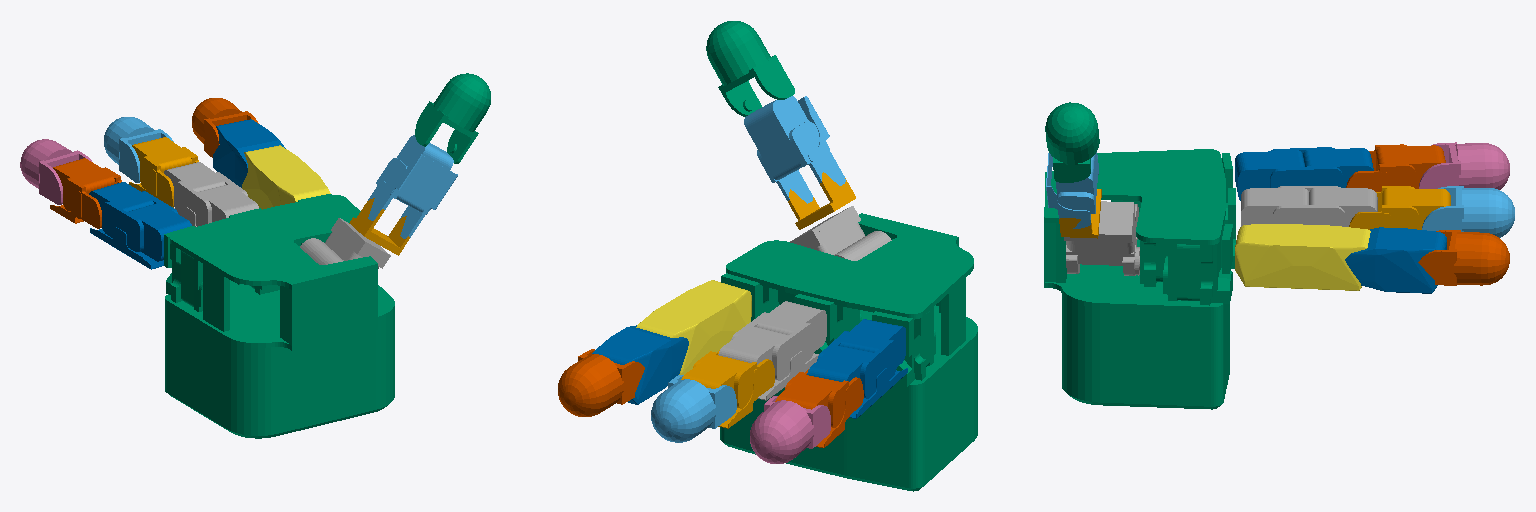
The robot description file, URDF, robot "allegro_hand":
<?xml version="1.0"?>
<robot name="allegro_hand">
  <joint name="allegro_mount_joint" type="fixed">
    <origin xyz="0.01 -0.01 -0.02" rpy="0 0 1.57"/>
    <parent link="allegro_mount"/>
    <child link="palm_link"/>
  </joint>
  <joint name="index_joint_0" type="revolute">
    <origin xyz="0.0514302 -0.03632 -0.0113 " rpy="-3.1415927 0.0000462 -0.0873565"/>
    <parent link="palm_link"/>
    <child link="index_link_0"/>
    <axis xyz="1. 0. 0."/>
    <limit lower="-0.5584889" upper="0.5584889" effort="21." velocity="6.283"/>
  </joint>
  <joint name="index_joint_1" type="revolute">
    <origin xyz="0. 0. 0." rpy="-1.5707963 0.0001391 1.5708427"/>
    <parent link="index_link_0"/>
    <child link="index_link_1"/>
    <axis xyz="1. 0. 0."/>
    <limit lower="-0.2792444" upper="1.727825" effort="21." velocity="6.283"/>
  </joint>
  <joint name="index_joint_2" type="revolute">
    <origin xyz="0. 0. -0.054" rpy="0. 0. 0."/>
    <parent link="index_link_1"/>
    <child link="index_link_2"/>
    <axis xyz="1. 0. 0."/>
    <limit lower="-0.2792444" upper="1.727825" effort="21." velocity="6.283"/>
  </joint>
  <joint name="index_joint_3" type="revolute">
    <origin xyz="0. 0. -0.0384" rpy="0. 0. 0."/>
    <parent link="index_link_2"/>
    <child link="index_link_3"/>
    <axis xyz="1. 0. 0."/>
    <limit lower="-0.2792444" upper="1.727825" effort="21." velocity="6.283"/>
  </joint>
  <joint name="middle_joint_0" type="revolute">
    <origin xyz="0.0537375 0.0087771 -0.0113 " rpy="-3.1415927 0.0000461 -0.0000926"/>
    <parent link="palm_link"/>
    <child link="middle_link_0"/>
    <axis xyz="1. 0. 0."/>
    <limit lower="-0.5584889" upper="0.5584889" effort="21." velocity="6.283"/>
  </joint>
  <joint name="middle_joint_1" type="revolute">
    <origin xyz="0. 0. 0." rpy="-1.5707963 0.0001391 1.5708427"/>
    <parent link="middle_link_0"/>
    <child link="middle_link_1"/>
    <axis xyz="1. 0. 0."/>
    <limit lower="-0.2792444" upper="1.727825" effort="21." velocity="6.283"/>
  </joint>
  <joint name="middle_joint_2" type="revolute">
    <origin xyz="0. 0. -0.054" rpy="0. 0. 0."/>
    <parent link="middle_link_1"/>
    <child link="middle_link_2"/>
    <axis xyz="1. 0. 0."/>
    <limit lower="-0.2792444" upper="1.727825" effort="21." velocity="6.283"/>
  </joint>
  <joint name="middle_joint_3" type="revolute">
    <origin xyz="0. 0. -0.0384" rpy="0. 0. 0."/>
    <parent link="middle_link_2"/>
    <child link="middle_link_3"/>
    <axis xyz="1. 0. 0."/>
    <limit lower="-0.2792444" upper="1.727825" effort="21." velocity="6.283"/>
  </joint>
  <joint name="ring_joint_0" type="revolute">
    <origin xyz="0.0514302 0.0538749 -0.0113 " rpy="3.1415927 0.0000463 0.0871712"/>
    <parent link="palm_link"/>
    <child link="ring_link_0"/>
    <axis xyz="1. 0. 0."/>
    <limit lower="-0.5584889" upper="0.5584889" effort="21." velocity="6.283"/>
  </joint>
  <joint name="ring_joint_1" type="revolute">
    <origin xyz="0. 0. 0." rpy="-1.5707963 0.0001391 1.5708427"/>
    <parent link="ring_link_0"/>
    <child link="ring_link_1"/>
    <axis xyz="1. 0. 0."/>
    <limit lower="-0.2792444" upper="1.727825" effort="21." velocity="6.283"/>
  </joint>
  <joint name="ring_joint_2" type="revolute">
    <origin xyz="0. 0. -0.054" rpy="0. 0. 0."/>
    <parent link="ring_link_1"/>
    <child link="ring_link_2"/>
    <axis xyz="1. 0. 0."/>
    <limit lower="-0.2792444" upper="1.727825" effort="21." velocity="6.283"/>
  </joint>
  <joint name="ring_joint_3" type="revolute">
    <origin xyz="0. 0. -0.0384" rpy="0. 0. 0."/>
    <parent link="ring_link_2"/>
    <child link="ring_link_3"/>
    <axis xyz="1. 0. 0."/>
    <limit lower="-0.2792444" upper="1.727825" effort="21." velocity="6.283"/>
  </joint>
  <joint name="root_joint" type="fixed">
    <origin xyz="0. 0. 0." rpy="0. 0. 0."/>
    <parent link="allegro"/>
    <child link="allegro_mount"/>
  </joint>
  <joint name="thumb_joint_0" type="revolute">
    <origin xyz="-0.0367482 -0.0081281 -0.0295 " rpy="-3.1415462 -0. 3.0543287"/>
    <parent link="palm_link"/>
    <child link="thumb_link_0"/>
    <axis xyz="1. 0. 0."/>
    <limit lower="0.2792444" upper="1.5707499" effort="21." velocity="6.283"/>
  </joint>
  <joint name="thumb_joint_1" type="revolute">
    <origin xyz="0. 0. -0.005" rpy="0. 0. -1.57075"/>
    <parent link="thumb_link_0"/>
    <child link="thumb_link_1"/>
    <axis xyz="1. 0. 0."/>
    <limit lower="-0.3316028" upper="1.1518834" effort="21." velocity="6.283"/>
  </joint>
  <joint name="thumb_joint_2" type="revolute">
    <origin xyz="0.0554 0. 0. " rpy="1.107286 1.5706928 -2.0343068"/>
    <parent link="thumb_link_1"/>
    <child link="thumb_link_2"/>
    <axis xyz="1. 0. 0."/>
    <limit lower="-0.2792444" upper="1.727825" effort="21." velocity="6.283"/>
  </joint>
  <joint name="thumb_joint_3" type="revolute">
    <origin xyz="0. 0. -0.0514" rpy="0. 0. 0."/>
    <parent link="thumb_link_2"/>
    <child link="thumb_link_3"/>
    <axis xyz="1. 0. 0."/>
    <limit lower="-0.2792444" upper="1.7627305" effort="21." velocity="6.283"/>
  </joint>
  <link name="allegro"/>
  <link name="allegro_mount">
    <inertial>
      <origin xyz="0. 0. 0." rpy="0. 0. 0."/>
      <mass value="0.05"/>
      <inertia ixx="0." ixy="0." ixz="0." iyy="0." iyz="0." izz="0."/>
    </inertial>
  </link>



  <link name="index_link_0">
    <inertial>
      <origin xyz="0. 0. 0." rpy="0. 0. 0."/>
      <mass value="0.005"/>
      <inertia ixx="0." ixy="0." ixz="0." iyy="0." iyz="0." izz="0."/>
    </inertial>
    <!-- <visual>
      <origin xyz="0. 0. 0." rpy="0. 1.5707963 0. "/>
      <geometry>
        <mesh filename="meshes/index_link_0_visuals_xform_visuals.obj" scale="1. 1. 1."/>
      </geometry>
    </visual>
    <collision>
      <origin xyz="0. 0. 0." rpy="0. 1.5707963 0. "/>
      <geometry>
        <mesh filename="meshes/index_link_0_collisions_xform_collisions.obj" scale="1. 1. 1."/>
      </geometry>
    </collision> -->
  </link>

  <link name="index_link_1">
    <inertial>
      <origin xyz="0. 0. 0." rpy="0. 0. 0."/>
      <mass value="0.005"/>
      <inertia ixx="0." ixy="0." ixz="0." iyy="0." iyz="0." izz="0."/>
    </inertial>
    <visual>
      <origin xyz="0. 0. 0." rpy="0. 1.5707963 0. "/>
      <geometry>
        <mesh filename="meshes/index_link_1_collisions_xform_collisions.obj" scale="1. 1. 1."/>
      </geometry>
    </visual>
    <collision>
      <origin xyz="0. 0. 0." rpy="0. 1.5707963 0. "/>
      <geometry>
        <mesh filename="meshes/index_link_1_collisions_xform_collisions.obj" scale="1. 1. 1."/>
      </geometry>
    </collision>
  </link>
  <link name="index_link_2">
    <inertial>
      <origin xyz="0. 0. 0." rpy="0. 0. 0."/>
      <mass value="0.05"/>
      <inertia ixx="0." ixy="0." ixz="0." iyy="0." iyz="0." izz="0."/>
    </inertial>
    <visual>
      <origin xyz="0. 0. 0." rpy="0. 1.5707963 0. "/>
      <geometry>
        <mesh filename="meshes/index_link_2_collisions_xform_collisions.obj" scale="1. 1. 1."/>
      </geometry>
    </visual>
    <collision>
      <origin xyz="0. 0. 0." rpy="0. 1.5707963 0. "/>
      <geometry>
        <mesh filename="meshes/index_link_2_collisions_xform_collisions.obj" scale="1. 1. 1."/>
      </geometry>
    </collision>
  </link>
  <link name="index_link_3">
    <visual>
      <origin xyz="0. 0. 0." rpy="3.1415927 0. 1.5707964"/>
      <geometry>
        <mesh filename="meshes/fingertip.obj" scale="1. 1. 1."/>
      </geometry>
    </visual>

    <collision>
      <origin xyz="0. 0. 0." rpy="3.1415927 0. 1.5707964"/>
      <geometry>
        <mesh filename="meshes/fingertip_coll.obj" scale="1. 1. 1."/>
      </geometry>
    </collision>
  </link>

  <link name="middle_link_0">
    <inertial>
      <origin xyz="0. 0. 0." rpy="0. 0. 0."/>
      <mass value="0.1"/>
      <inertia ixx="0." ixy="0." ixz="0." iyy="0." iyz="0." izz="0."/>
    </inertial>
    <!-- <visual>
      <origin xyz="0. 0. 0." rpy="0. 1.5707963 0. "/>
      <geometry>
        <mesh filename="meshes/index_link_0_visuals_xform_visuals.obj" scale="1. 1. 1."/>
      </geometry>
    </visual>
    <collision>
      <origin xyz="0. 0. 0." rpy="0. 1.5707963 0. "/>
      <geometry>
        <mesh filename="meshes/index_link_0_collisions_xform_collisions.obj" scale="1. 1. 1."/>
      </geometry>
    </collision> -->
  </link>
  <link name="middle_link_1">
    <inertial>
      <origin xyz="0. 0. 0." rpy="0. 0. 0."/>
      <mass value="0.1"/>
      <inertia ixx="0." ixy="0." ixz="0." iyy="0." iyz="0." izz="0."/>
    </inertial>
    <visual>
      <origin xyz="0. 0. 0." rpy="0. 1.5707963 0. "/>
      <geometry>
        <mesh filename="meshes/index_link_1_visuals_xform_visuals.obj" scale="1. 1. 1."/>
      </geometry>
    </visual>
    <collision>
      <origin xyz="0. 0. 0." rpy="0. 1.5707963 0. "/>
      <geometry>
        <mesh filename="meshes/index_link_1_collisions_xform_collisions.obj" scale="1. 1. 1."/>
      </geometry>
    </collision>
  </link>
  <link name="middle_link_2">
    <inertial>
      <origin xyz="0. 0. 0." rpy="0. 0. 0."/>
      <mass value="0.1"/>
      <inertia ixx="0." ixy="0." ixz="0." iyy="0." iyz="0." izz="0."/>
    </inertial>
    <visual>
      <origin xyz="0. 0. 0." rpy="0. 1.5707963 0. "/>
      <geometry>
        <mesh filename="meshes/index_link_2_visuals_xform_visuals.obj" scale="1. 1. 1."/>
      </geometry>
    </visual>
    <collision>
      <origin xyz="0. 0. 0." rpy="0. 1.5707963 0. "/>
      <geometry>
        <mesh filename="meshes/index_link_2_collisions_xform_collisions.obj" scale="1. 1. 1."/>
      </geometry>
    </collision>
  </link>


  <link name="middle_link_3">
    <visual>
      <origin xyz="0. 0. 0." rpy="3.1415927 0. 1.5707964"/>
      <geometry>
        <mesh filename="meshes/fingertip.obj" scale="1. 1. 1."/>
      </geometry>
    </visual>

    <collision>
      <origin xyz="0. 0. 0." rpy="3.1415927 0. 1.5707964"/>
      <geometry>
        <mesh filename="meshes/fingertip_coll.obj" scale="1. 1. 1."/>
      </geometry>
    </collision>
  </link>
  <link name="palm_link">
    <inertial>
      <origin xyz="0. 0. 0." rpy="0. 0. 0."/>
      <mass value="0.4154"/>
      <inertia ixx="0." ixy="0." ixz="0." iyy="0." iyz="0." izz="0."/>
    </inertial>
    <visual>
      <origin xyz="0. 0. 0." rpy="0. 0. 0."/>
      <geometry>
        <mesh filename="meshes/palm_link_visuals_xform_visuals.obj" scale="1. 1. 1."/>
      </geometry>
    </visual>
    <collision>
      <origin xyz="0. 0. 0." rpy="0. 0. 0."/>
      <geometry>
        <mesh filename="meshes/palm_link_collisions_xform_collisions.obj" scale="1. 1. 1."/>
      </geometry>
    </collision>
  </link>
  <link name="ring_link_0">
    <inertial>
      <origin xyz="0. 0. 0." rpy="0. 0. 0."/>
      <mass value="0.1"/>
      <inertia ixx="0." ixy="0." ixz="0." iyy="0." iyz="0." izz="0."/>
    </inertial>
    <!-- <visual>
      <origin xyz="0. 0. 0." rpy="0. 1.5707963 0. "/>
      <geometry>
        <mesh filename="meshes/index_link_0_visuals_xform_visuals.obj" scale="1. 1. 1."/>
      </geometry>
    </visual>
    <collision>
      <origin xyz="0. 0. 0." rpy="0. 1.5707963 0. "/>
      <geometry>
        <mesh filename="meshes/index_link_0_collisions_xform_collisions.obj" scale="1. 1. 1."/>
      </geometry>
    </collision> -->
  </link>
  <link name="ring_link_1">
    <inertial>
      <origin xyz="0. 0. 0." rpy="0. 0. 0."/>
      <mass value="0.1"/>
      <inertia ixx="0." ixy="0." ixz="0." iyy="0." iyz="0." izz="0."/>
    </inertial>
    <visual>
      <origin xyz="0. 0. 0." rpy="0. 1.5707963 0. "/>
      <geometry>
        <mesh filename="meshes/index_link_1_visuals_xform_visuals.obj" scale="1. 1. 1."/>
      </geometry>
    </visual>
    <collision>
      <origin xyz="0. 0. 0." rpy="0. 1.5707963 0. "/>
      <geometry>
        <mesh filename="meshes/index_link_1_collisions_xform_collisions.obj" scale="1. 1. 1."/>
      </geometry>
    </collision>
  </link>
  <link name="ring_link_2">
    <inertial>
      <origin xyz="0. 0. 0." rpy="0. 0. 0."/>
      <mass value="0.1"/>
      <inertia ixx="0." ixy="0." ixz="0." iyy="0." iyz="0." izz="0."/>
    </inertial>
    <visual>
      <origin xyz="0. 0. 0." rpy="0. 1.5707963 0. "/>
      <geometry>
        <mesh filename="meshes/index_link_2_visuals_xform_visuals.obj" scale="1. 1. 1."/>
      </geometry>
    </visual>
    <collision>
      <origin xyz="0. 0. 0." rpy="0. 1.5707963 0. "/>
      <geometry>
        <mesh filename="meshes/index_link_2_collisions_xform_collisions.obj" scale="1. 1. 1."/>
      </geometry>
    </collision>
  </link>
  <link name="ring_link_3">
    <visual>
      <origin xyz="0. 0. 0." rpy="3.1415927 0. 1.5707964"/>
      <geometry>
        <mesh filename="meshes/fingertip.obj" scale="1. 1. 1."/>
      </geometry>
    </visual>

    <collision>
      <origin xyz="0. 0. 0." rpy="3.1415927 0. 1.5707964"/>
      <geometry>
        <mesh filename="meshes/fingertip_coll.obj" scale="1. 1. 1."/>
      </geometry>
    </collision>
  </link>
  <link name="thumb_link_0">
    <inertial>
      <origin xyz="0. 0. 0." rpy="0. 0. 0."/>
      <mass value="0.1"/>
      <inertia ixx="0." ixy="0." ixz="0." iyy="0." iyz="0." izz="0."/>
    </inertial>
    <visual>
      <origin xyz="0. 0. 0." rpy="0. 1.5707963 0. "/>
      <geometry>
        <mesh filename="meshes/thumb_link_0_visuals_xform_visuals.obj" scale="1. 1. 1."/>
      </geometry>
    </visual>
    <collision>
      <origin xyz="0. 0. 0." rpy="0. 1.5707963 0. "/>
      <geometry>
        <mesh filename="meshes/thumb_link_0_collisions_xform_collisions.obj" scale="1. 1. 1."/>
      </geometry>
    </collision>
  </link>
  <link name="thumb_link_1">
    <inertial>
      <origin xyz="0. 0. 0." rpy="0. 0. 0."/>
      <mass value="0.1"/>
      <inertia ixx="0." ixy="0." ixz="0." iyy="0." iyz="0." izz="0."/>
    </inertial>
    <visual>
      <origin xyz="0. 0. 0." rpy="0. 1.5707963 0. "/>
      <geometry>
        <mesh filename="meshes/thumb_link_1_visuals_xform_visuals.obj" scale="1. 1. 1."/>
      </geometry>
    </visual>
    <collision>
      <origin xyz="0. 0. 0." rpy="0. 1.5707963 0. "/>
      <geometry>
        <mesh filename="meshes/thumb_link_1_collisions_xform_collisions.obj" scale="1. 1. 1."/>
      </geometry>
    </collision>
  </link>
  <link name="thumb_link_2">
    <inertial>
      <origin xyz="0. 0. 0." rpy="0. 0. 0."/>
      <mass value="0.1"/>
      <inertia ixx="0." ixy="0." ixz="0." iyy="0." iyz="0." izz="0."/>
    </inertial>
    <visual>
      <origin xyz="0. 0. 0." rpy="0. 1.5707963 0. "/>
      <geometry>
        <mesh filename="meshes/index_link_2_visuals_xform_visuals.obj" scale="1. 1. 1."/>
      </geometry>
    </visual>
    <collision>
      <origin xyz="0. 0. 0." rpy="0. 1.5707963 0. "/>
      <geometry>
        <mesh filename="meshes/index_link_2_collisions_xform_collisions.obj" scale="1. 1. 1."/>
      </geometry>
    </collision>
  </link>
  <link name="thumb_link_3">
    <visual>
      <origin xyz="0. 0. 0." rpy="3.1415927 0. 1.5707964"/>
      <geometry>
        <mesh filename="meshes/fingertip.obj" scale="1. 1. 1."/>
      </geometry>
    </visual>

    <collision>
      <origin xyz="0. 0. 0." rpy="3.1415927 0. 1.5707964"/>
      <geometry>
        <mesh filename="meshes/fingertip_coll.obj" scale="1. 1. 1."/>
      </geometry>
    </collision>
  </link>
</robot>

--- Facts derived from the render (not from the file) ---
The picture shows the robot from 3 angles, left to right: view 1: azimuth 30°, elevation 25°; view 2: azimuth 150°, elevation 25°; view 3: azimuth 270°, elevation 25°; orthographic projection.
Robot: allegro_hand — 19 links, 18 joints (16 revolute, 2 fixed); root link allegro; default pose: joints at zero except 1 at the middle of their limits (thumb_joint_0 = 0.925).
Links seen in each view (by area): view 1: palm_link, ring_link_1, thumb_link_2, thumb_link_3, index_link_1, middle_link_1, ring_link_2, index_link_2, middle_link_2, ring_link_3, thumb_link_0, middle_link_3 (+2 smaller); view 2: palm_link, thumb_link_2, middle_link_1, index_link_1, ring_link_1, thumb_link_3, middle_link_3, index_link_3, ring_link_3, index_link_2, middle_link_2, ring_link_2 (+2 smaller); view 3: palm_link, index_link_1, ring_link_1, middle_link_1, index_link_2, index_link_3, thumb_link_0, thumb_link_3, middle_link_3, ring_link_3, ring_link_2, middle_link_2 (+2 smaller).
Boxes of the visible links, <box> form: palm_link: <box>164,194,394,438</box>; ring_link_1: <box>89,182,191,269</box>; thumb_link_2: <box>368,135,457,238</box>; thumb_link_3: <box>415,73,490,163</box>; index_link_1: <box>242,145,330,209</box>; middle_link_1: <box>164,162,258,226</box>; ring_link_2: <box>50,158,121,228</box>; index_link_2: <box>213,119,285,187</box>; middle_link_2: <box>129,137,198,207</box>; ring_link_3: <box>20,139,91,204</box>; thumb_link_0: <box>300,218,390,268</box>; middle_link_3: <box>104,117,173,182</box>; palm_link: <box>720,213,977,491</box>; thumb_link_2: <box>744,96,845,203</box>; middle_link_1: <box>718,301,826,400</box>; index_link_1: <box>636,280,751,374</box>; ring_link_1: <box>807,319,907,418</box>; thumb_link_3: <box>706,21,794,116</box>; middle_link_3: <box>651,375,736,442</box>; index_link_3: <box>558,349,644,416</box>; ring_link_3: <box>750,396,830,463</box>; index_link_2: <box>592,325,688,404</box>; middle_link_2: <box>681,350,774,428</box>; ring_link_2: <box>775,369,863,447</box>; palm_link: <box>1044,149,1235,409</box>; index_link_1: <box>1235,224,1370,290</box>; ring_link_1: <box>1235,147,1373,200</box>; middle_link_1: <box>1241,186,1377,226</box>; index_link_2: <box>1345,227,1446,293</box>; index_link_3: <box>1418,230,1509,285</box>; thumb_link_0: <box>1064,201,1139,275</box>; thumb_link_3: <box>1045,102,1099,182</box>; middle_link_3: <box>1422,186,1514,237</box>; ring_link_3: <box>1419,142,1509,189</box>; ring_link_2: <box>1346,144,1445,191</box>; middle_link_2: <box>1349,186,1450,229</box>.
Bounding box of the posed robot: 0.1773 × 0.2467 × 0.1939 m (x, y, z).
Meshes: 8 distinct files referenced, 14 mesh visuals loaded (8 OBJ).